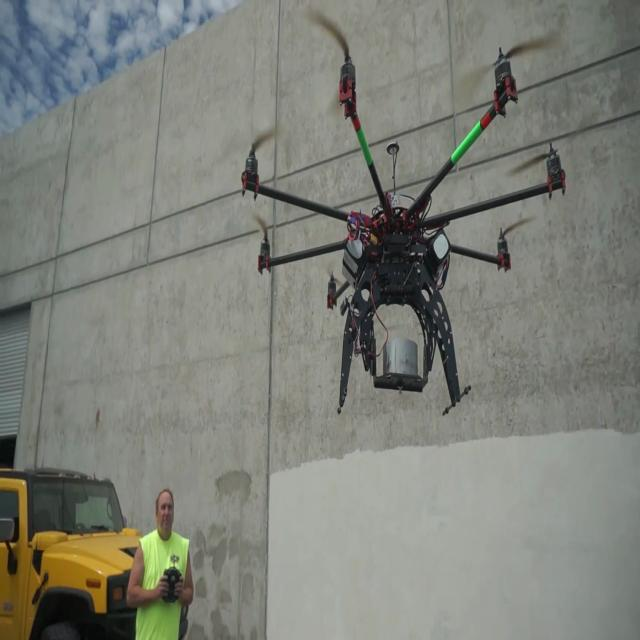drone: (223, 27, 563, 439)
